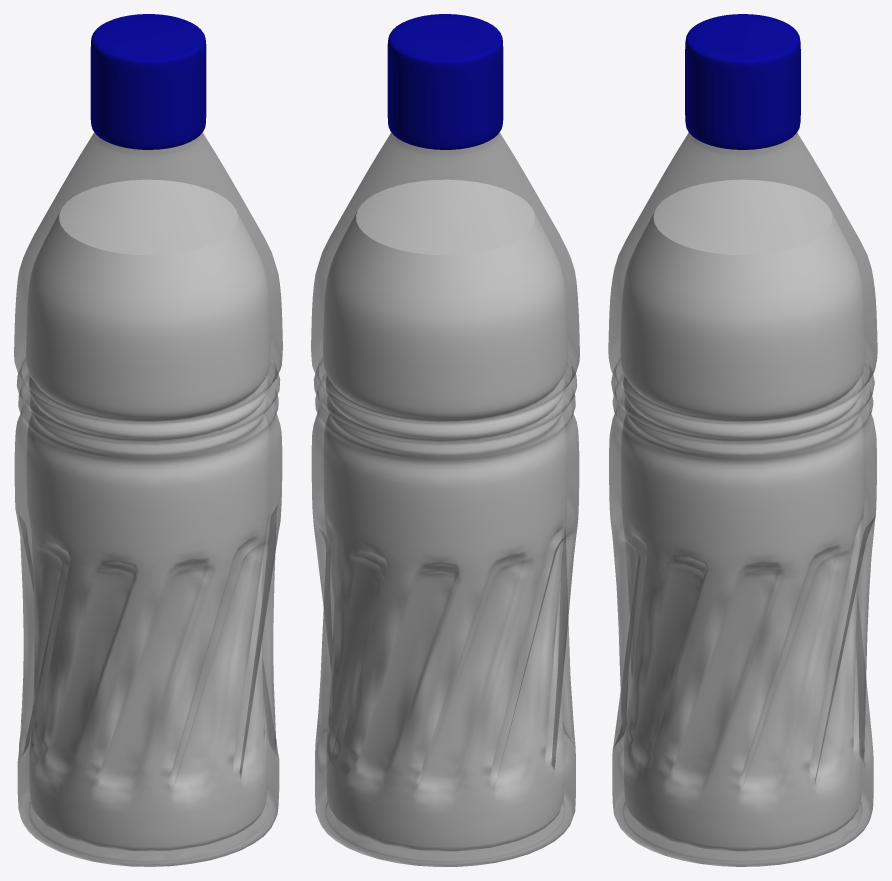
Rendered from Water_bottle.dae.
3 views of the same model, side by side, from view 1: azimuth 30°, elevation 25°; view 2: azimuth 150°, elevation 25°; view 3: azimuth 270°, elevation 25° (orthographic).
Visible parts, largest first — view 1: Waterbottle; view 2: Waterbottle; view 3: Waterbottle.
Boxes of the visible parts, bbox=[...] form: Waterbottle: bbox=[14, 14, 282, 866]; Waterbottle: bbox=[311, 14, 579, 866]; Waterbottle: bbox=[608, 14, 877, 866].
Size of the model in its own units: 0.1448 by 0.1448 by 0.4609.
